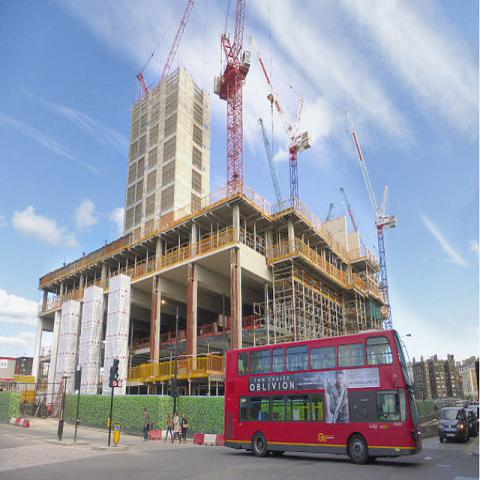bus: (221, 319, 424, 473)
car: (438, 405, 471, 444), (466, 410, 480, 436), (468, 406, 480, 420), (464, 399, 472, 408), (456, 400, 463, 407)
